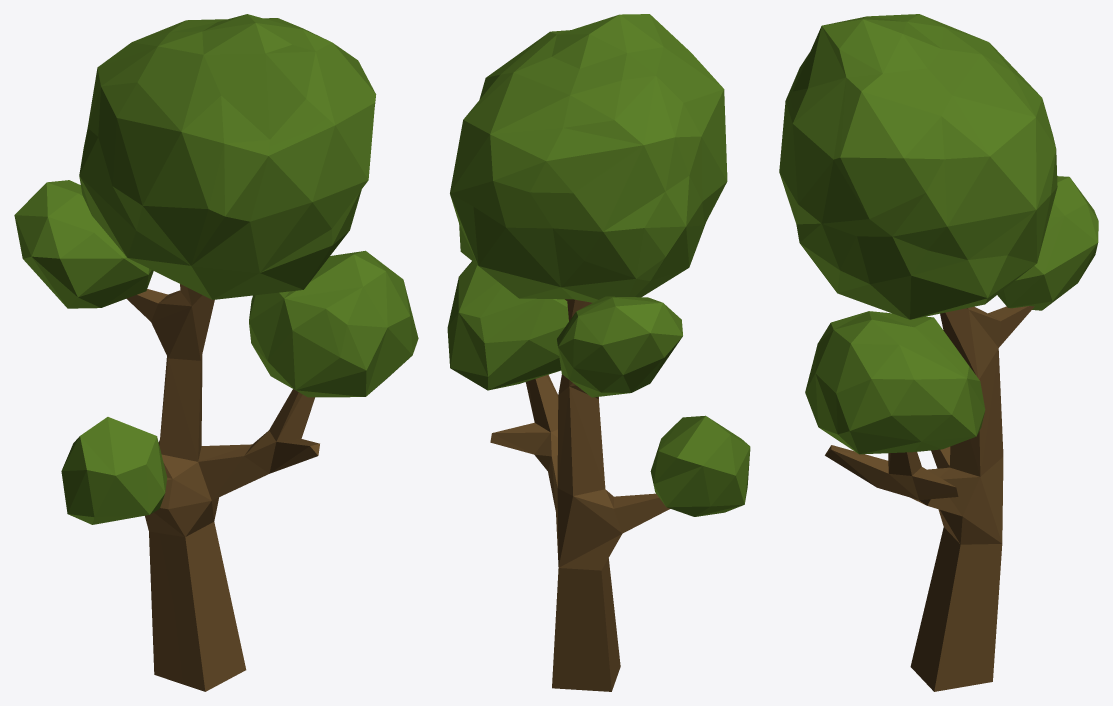
The model's file is tree_round.gltf.
The picture shows the model from 3 angles, left to right: view 1: azimuth 30°, elevation 25°; view 2: azimuth 150°, elevation 25°; view 3: azimuth 270°, elevation 25°; orthographic projection. The views are drawn at different scales.
Parts seen in each view (by area): view 1: Tree1_Tree1_0, Tree1_Tree1_2.001_0; view 2: Tree1_Tree1_0, Tree1_Tree1_2.001_0; view 3: Tree1_Tree1_0, Tree1_Tree1_2.001_0.
Part boxes in pixels (bbox=[...]): Tree1_Tree1_0: bbox=[14, 14, 418, 524]; Tree1_Tree1_2.001_0: bbox=[126, 284, 319, 691]; Tree1_Tree1_0: bbox=[447, 14, 750, 516]; Tree1_Tree1_2.001_0: bbox=[490, 299, 670, 691]; Tree1_Tree1_0: bbox=[779, 14, 1098, 454]; Tree1_Tree1_2.001_0: bbox=[825, 306, 1034, 691].
Size of the model in its own units: 10.11 by 20.59 by 9.04.
